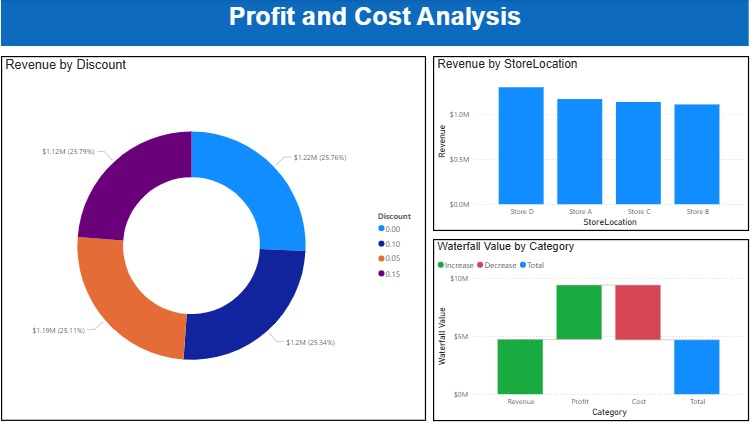

What the dashboard file says about the page in this screenshot:
{"tool":"powerbi","page":{"name":"Page 2","canvas":[1280,720],"ordinal":1},"visuals":[{"type":"textbox","box":[10.1,0,1256.5,79],"z":0},{"type":"donutChart","fields":{"Y":["production and sales analysis.Revenue"],"Category":["production and sales analysis.Discount"]},"box":[10.1,95.7,713.9,613.1],"z":3000},{"type":"clusteredColumnChart","fields":{"Y":["production and sales analysis.Revenue"],"Category":["production and sales analysis.StoreLocation"]},"box":[735.7,95.7,530.8,294],"z":3001},{"type":"waterfallChart","fields":{"Category":["Waterfall Category.Category"],"Y":["production and sales analysis.Waterfall Value"]},"box":[736,403,531,306],"z":3002}]}

Visuals, with their boxes in screenshot pixels (x1, y1, x2, y2), scaled from the page's 1280x720 canvas onto the 751x422 screenshot:
textbox: bbox=[6, 0, 743, 46]
donutChart - production and sales analysis.Revenue x production and sales analysis.Discount: bbox=[6, 56, 425, 415]
clusteredColumnChart - production and sales analysis.Revenue x production and sales analysis.StoreLocation: bbox=[432, 56, 743, 228]
waterfallChart - Waterfall Category.Category x production and sales analysis.Waterfall Value: bbox=[432, 236, 743, 416]
